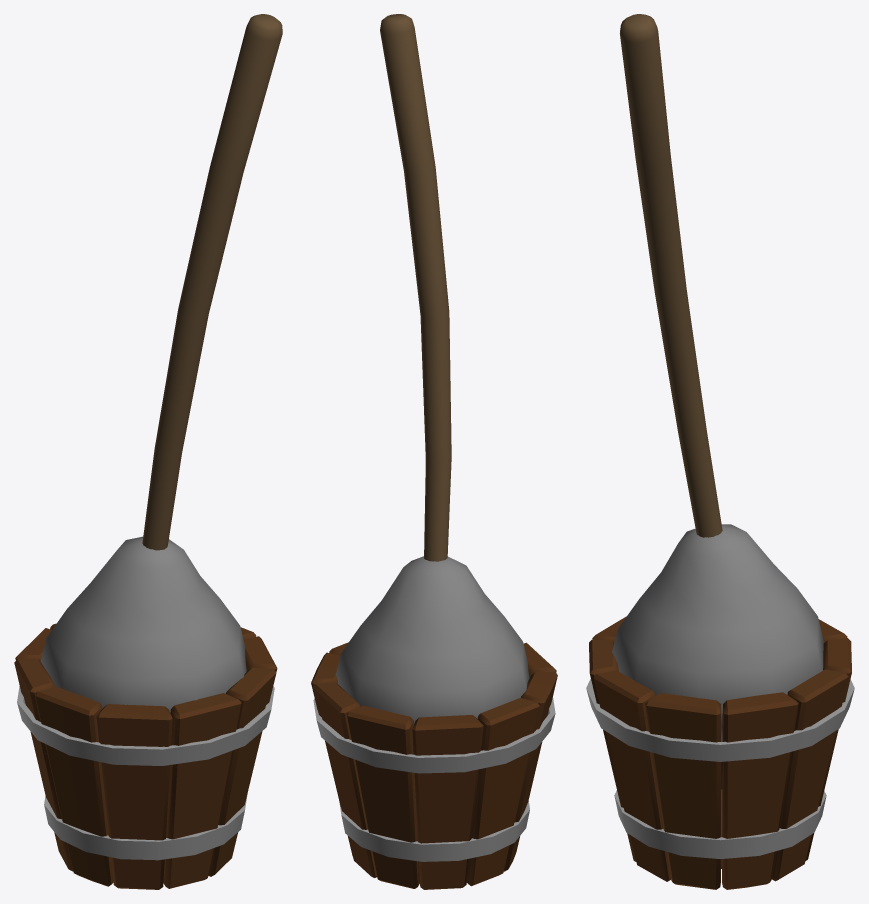
File: Swifer.fbx
3 views of the same model, side by side, from view 1: azimuth 30°, elevation 25°; view 2: azimuth 150°, elevation 25°; view 3: azimuth 270°, elevation 25° (orthographic). The views are drawn at different scales.
Parts seen in each view (by area): view 1: Cylinder.043; view 2: Cylinder.043; view 3: Cylinder.043.
Boxes of the visible parts, bbox=[...] form: Cylinder.043: bbox=[14, 14, 282, 889]; Cylinder.043: bbox=[311, 14, 557, 889]; Cylinder.043: bbox=[586, 14, 854, 889].
Size of the model in its own units: 0.3434 by 1.22 by 0.3389.
